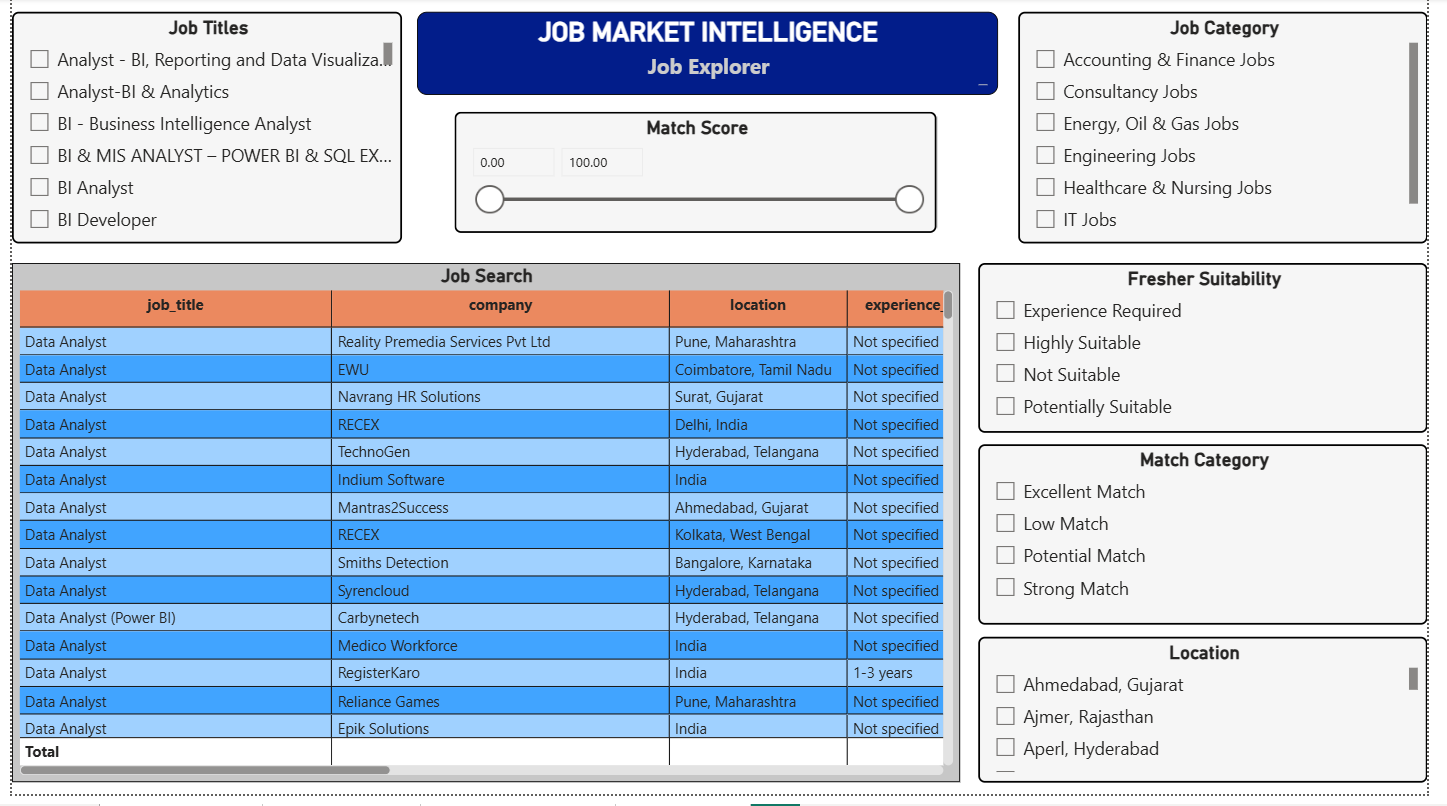

The dashboard page shown, as its layout file describes it:
{"tool":"powerbi","page":{"name":"Job Explorer","canvas":[1280,720],"ordinal":3},"visuals":[{"type":"tableEx","title":"Job Search","fields":{"Values":["jobs_dashboard.job_title","jobs_dashboard.company","jobs_dashboard.location","jobs_dashboard.experience_text","jobs_dashboard.skills","jobs_dashboard.salary_mid","jobs_dashboard.job_match_score","jobs_dashboard.match_category","jobs_dashboard.job_url"]},"box":[0,240.1,857.6,469.3],"z":0},{"type":"slicer","title":"Job Category","fields":{"Values":["jobs_dashboard.category"]},"box":[909.8,12.3,370.5,209.9],"z":2000},{"type":"slicer","title":"Location","fields":{"Values":["jobs_dashboard.location"]},"box":[874.1,577.7,406.2,131.7],"z":3000},{"type":"slicer","title":"Match Category","fields":{"Values":["jobs_dashboard.match_category"]},"box":[874.1,403.4,406.2,163.3],"z":4000},{"type":"slicer","title":"Fresher Suitability","fields":{"Values":["jobs_dashboard.fresher_suitability"]},"box":[874.1,240.1,406.2,153.7],"z":5000},{"type":"slicer","title":"Match Score","fields":{"Values":["jobs_dashboard.job_match_score"]},"box":[400.7,102.9,436.4,109.8],"z":6000},{"type":"slicer","title":"Job Titles","fields":{"Values":["jobs_dashboard.job_title"]},"box":[0,12.3,352.7,209.9],"z":7000},{"type":"textbox","title":"JOB MARKET INTELLIGENCE","box":[366.4,12.3,525.6,75.5],"z":8000}]}

Visuals, with their boxes in screenshot pixels (x1, y1, x2, y2), scaled from the page's 1280x720 canvas onto the 1447x806 screenshot:
"Job Search" tableEx: {"x1": 0, "y1": 269, "x2": 969, "y2": 794}
"Job Category" slicer: {"x1": 1029, "y1": 14, "x2": 1446, "y2": 249}
"Location" slicer: {"x1": 988, "y1": 647, "x2": 1446, "y2": 794}
"Match Category" slicer: {"x1": 988, "y1": 452, "x2": 1446, "y2": 634}
"Fresher Suitability" slicer: {"x1": 988, "y1": 269, "x2": 1446, "y2": 441}
"Match Score" slicer: {"x1": 453, "y1": 115, "x2": 946, "y2": 238}
"Job Titles" slicer: {"x1": 0, "y1": 14, "x2": 399, "y2": 249}
"JOB MARKET INTELLIGENCE" textbox: {"x1": 414, "y1": 14, "x2": 1008, "y2": 98}
